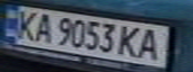0: (69, 17, 87, 50)
3: (97, 20, 118, 55)
5: (84, 18, 103, 52)
9: (51, 15, 75, 47)
A: (136, 26, 166, 61), (30, 10, 57, 44)
K: (115, 24, 145, 60), (12, 7, 42, 42)
